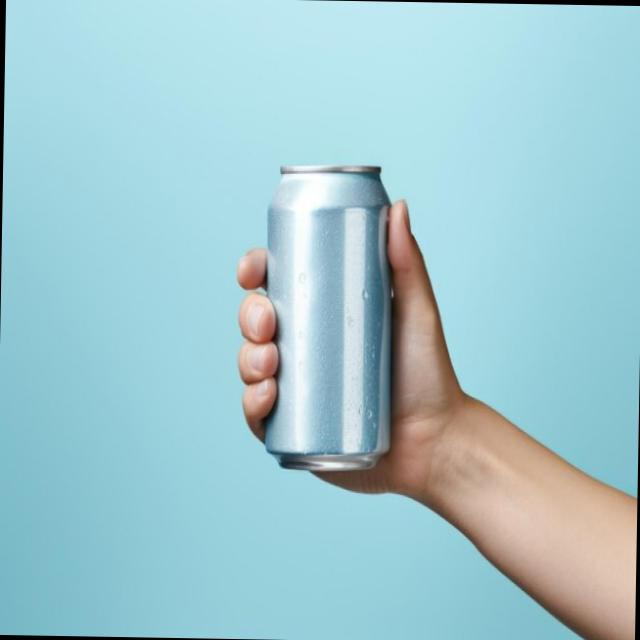soda_can: (223, 101, 432, 545)
